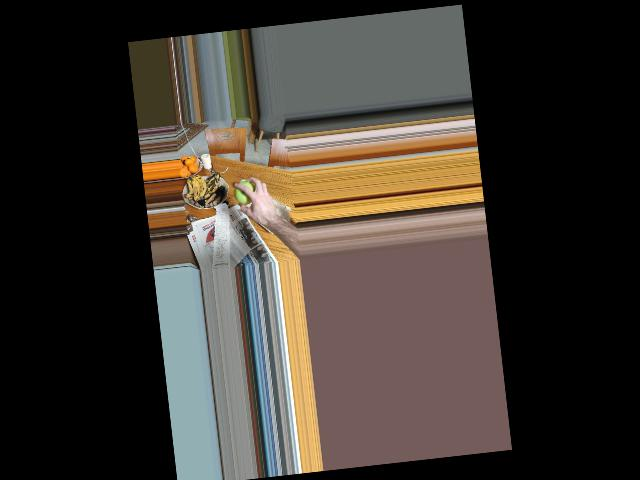apple: (233, 179, 257, 206)
